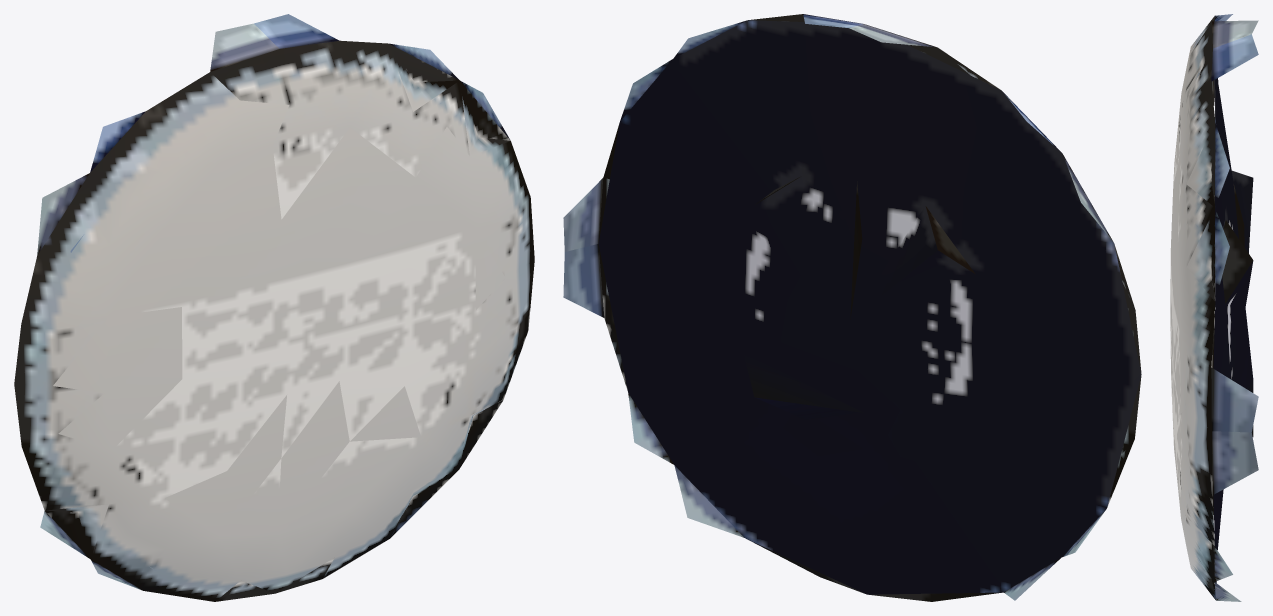
Rendered from wall_clock.glb.
3 views of the same model, side by side, from view 1: azimuth 30°, elevation 25°; view 2: azimuth 150°, elevation 25°; view 3: azimuth 270°, elevation 25° (orthographic). The views are drawn at different scales.
Visible parts, largest first — view 1: mesh; view 2: mesh; view 3: mesh.
Boxes of the visible parts, x1,y1,x2,y2 form: mesh: (14, 14, 534, 601); mesh: (563, 14, 1141, 601); mesh: (1170, 14, 1258, 601).
Bounding box in the file's own units: 0.3204 × 0.3205 × 0.048.
1 material, 1 textured.
